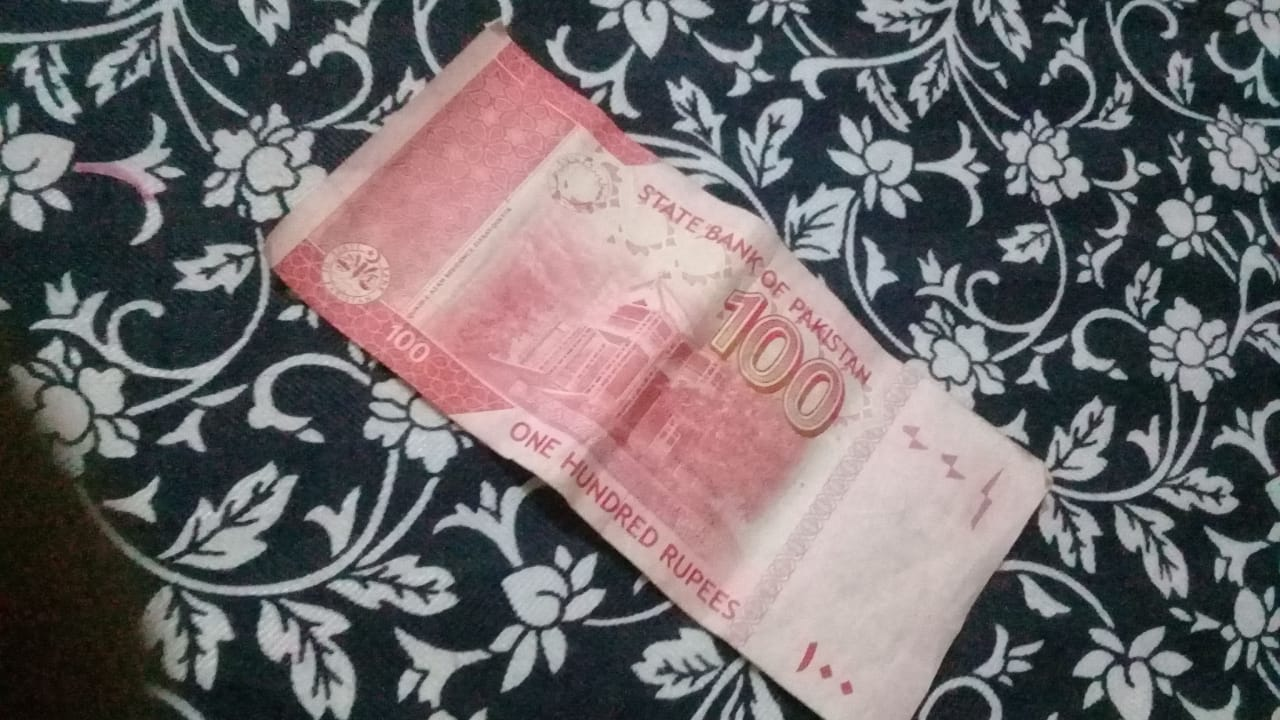100 rupee: (255, 20, 1074, 720)
